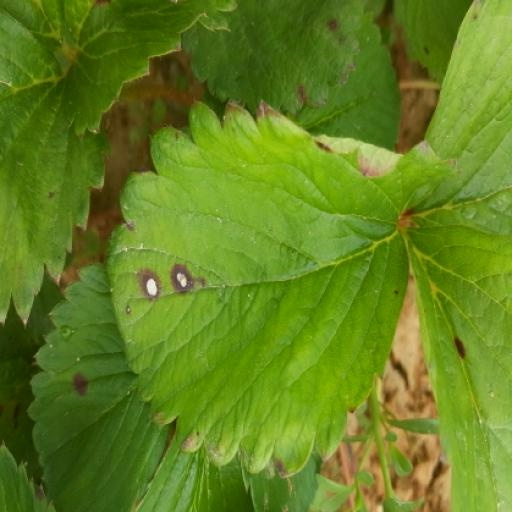Leaf Spot: (101, 97, 410, 478), (337, 263, 488, 511), (403, 9, 511, 331), (0, 224, 113, 511), (152, 0, 332, 117), (42, 0, 119, 83), (459, 441, 511, 511)
